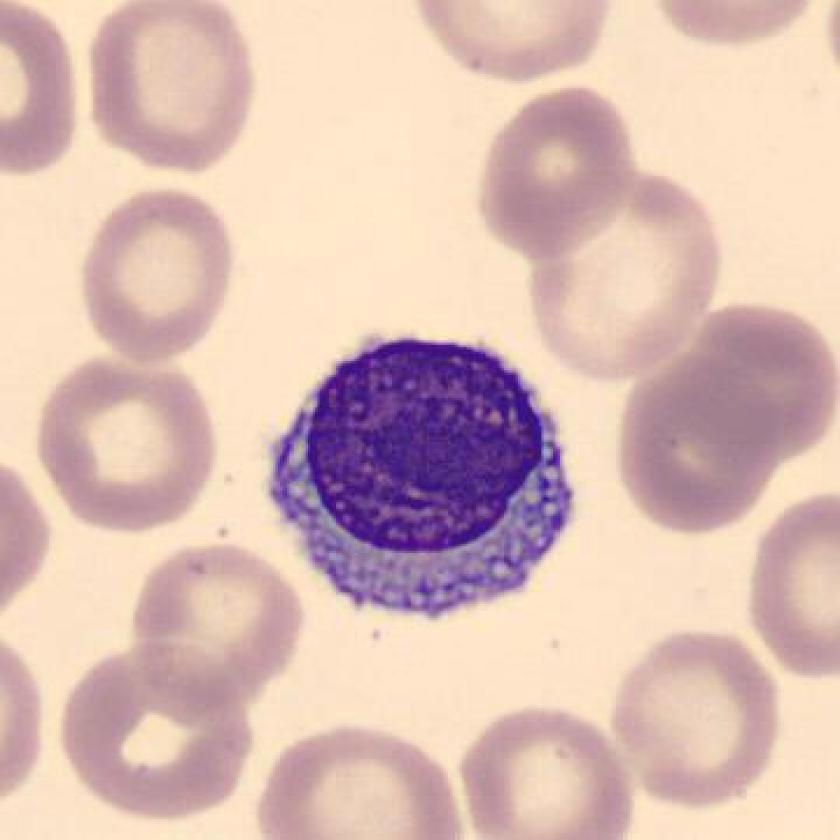lymphocyte: (258, 316, 589, 635)
